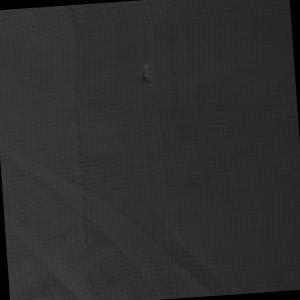Damage: (131, 59, 166, 93)
Wrinkle: (1, 114, 234, 300)
